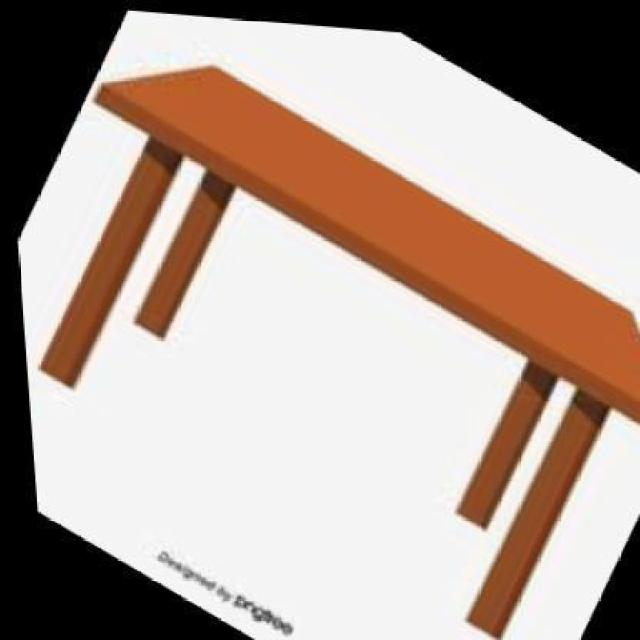tables: (14, 6, 638, 639)
